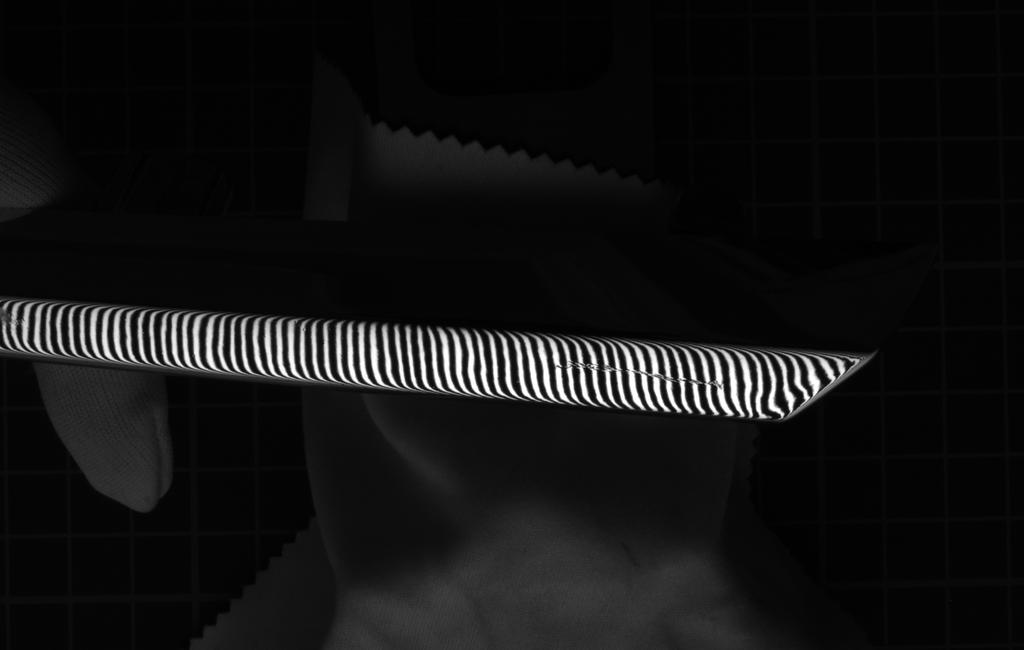Scratch: (550, 352, 738, 398)
